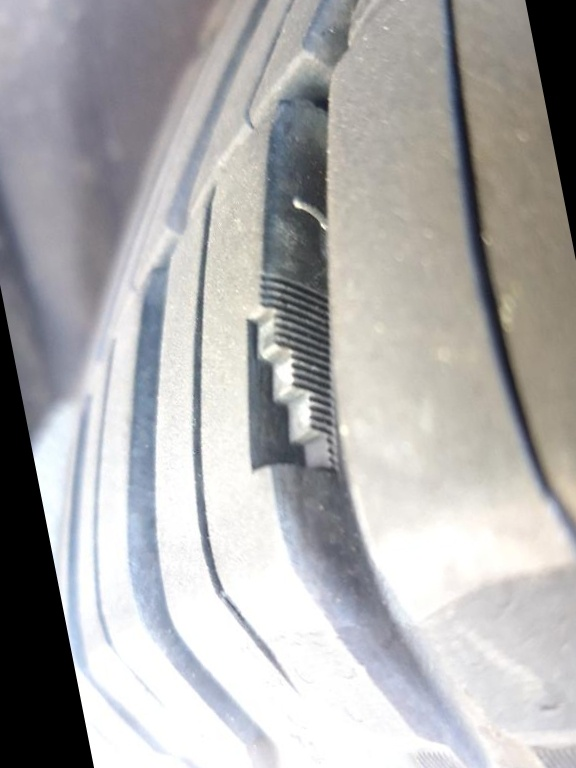temoin:90: (204, 256, 370, 493)
